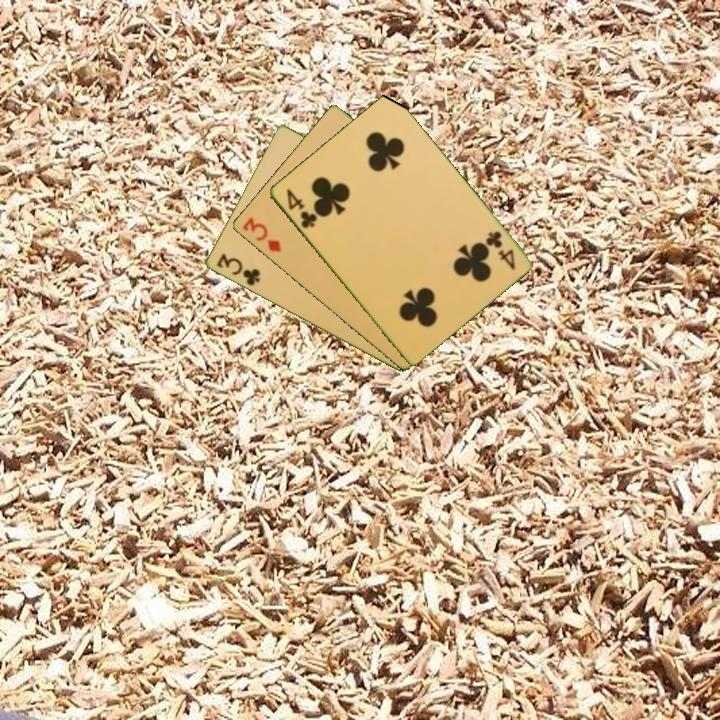3c: (213, 250, 263, 289)
3d: (238, 214, 284, 255)
4c: (282, 185, 320, 232), (482, 227, 518, 273)
